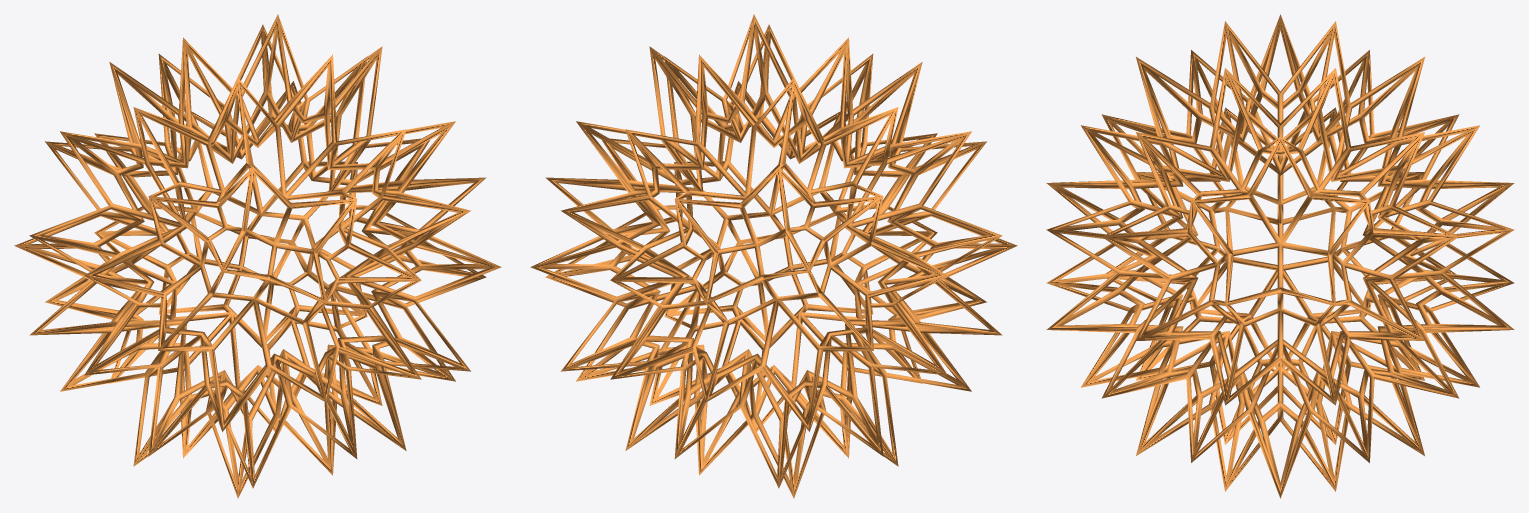
File: RhombicosidodecahedronK2.glb
The picture shows the model from 3 angles, left to right: view 1: azimuth 30°, elevation 25°; view 2: azimuth 150°, elevation 25°; view 3: azimuth 270°, elevation 25°; orthographic projection.
Visible parts, largest first — view 1: Rhombicosidodecahedron; view 2: Rhombicosidodecahedron; view 3: Rhombicosidodecahedron.
Part boxes in pixels (box(x1,y1,x2,y2)): Rhombicosidodecahedron: box(14, 14, 501, 498); Rhombicosidodecahedron: box(530, 14, 1017, 498); Rhombicosidodecahedron: box(1046, 14, 1514, 498).
Size of the model in its own units: 4.29 by 4.29 by 4.29.
